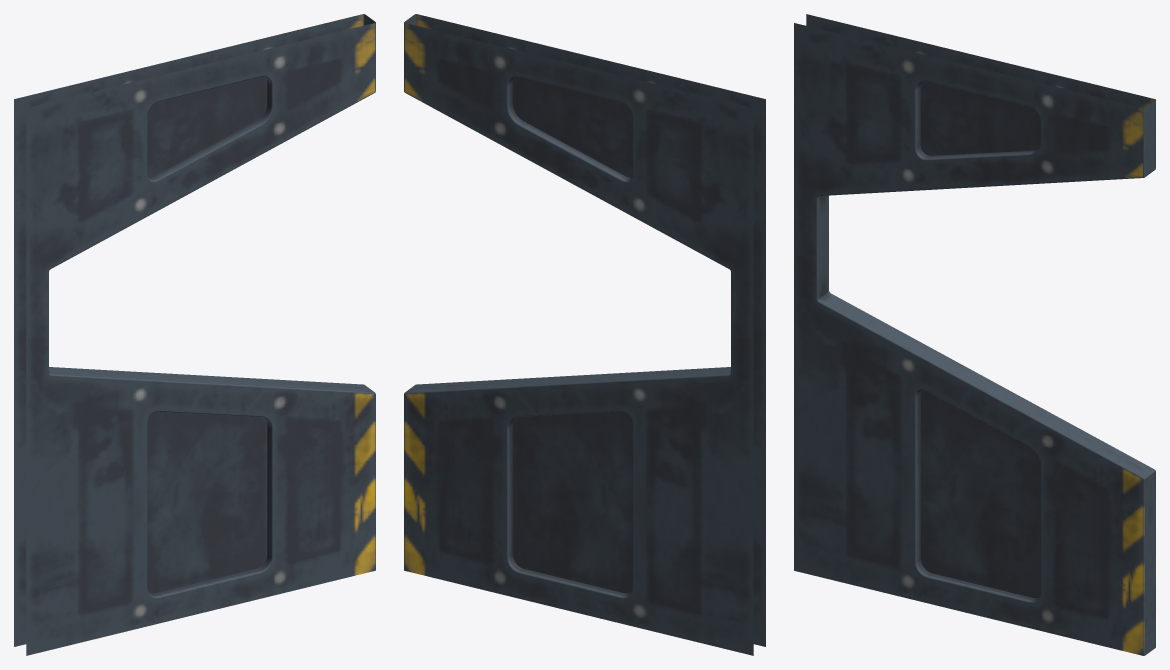
Rendered from GR_CM_BD_Door_001_L.fbx.
3 views of the same model, side by side, from view 1: azimuth 30°, elevation 25°; view 2: azimuth 150°, elevation 25°; view 3: azimuth 330°, elevation 25° (orthographic).
Visible parts, largest first — view 1: door_02_low.001; view 2: door_02_low.001; view 3: door_02_low.001.
Boxes of the visible parts, x1,y1,x2,y2 form: door_02_low.001: (14, 14, 375, 655); door_02_low.001: (404, 14, 765, 655); door_02_low.001: (794, 14, 1155, 655).
Bounding box in the file's own units: 138 × 207 × 8.29.
1 material, 1 textured.
